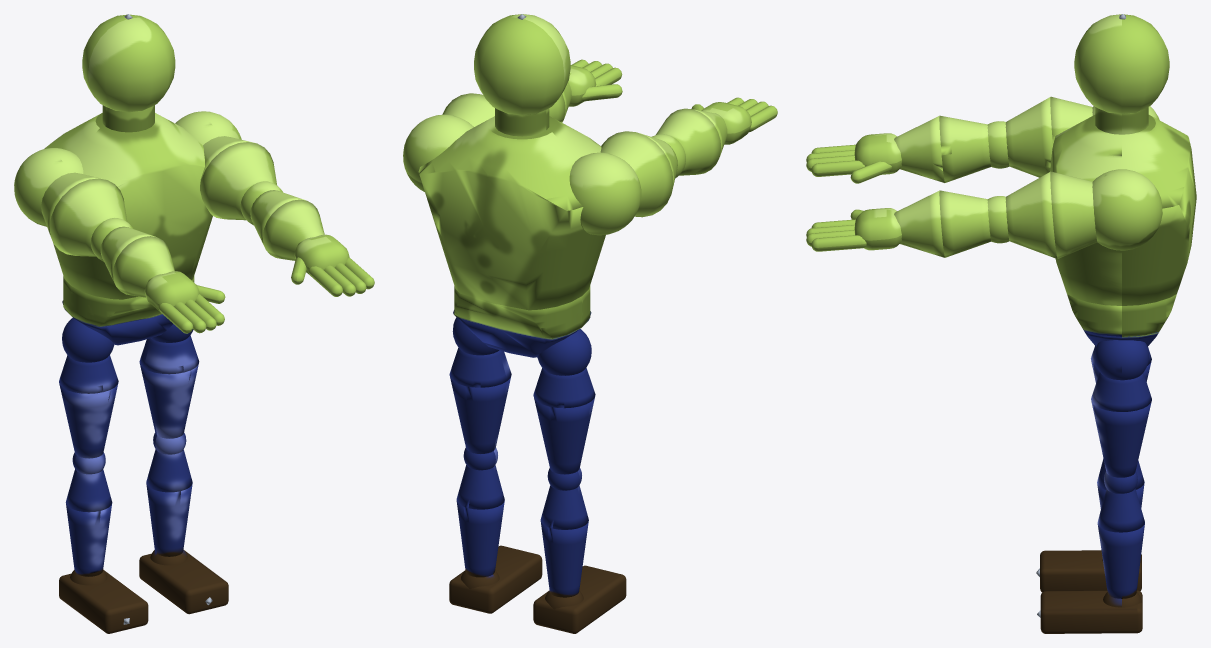
File: Zombie Jacked (Basic Animation OBJ).obj
The picture shows the model from 3 angles, left to right: view 1: azimuth 30°, elevation 25°; view 2: azimuth 150°, elevation 25°; view 3: azimuth 270°, elevation 25°; orthographic projection. The views are drawn at different scales.
Parts seen in each view (by area): view 1: Jacked_Zombie; view 2: Jacked_Zombie; view 3: Jacked_Zombie.
Boxes of the visible parts, box(x1,y1,x2,y2) form: Jacked_Zombie: box(14, 14, 374, 633); Jacked_Zombie: box(403, 14, 777, 633); Jacked_Zombie: box(806, 14, 1196, 633).
Size of the model in its own units: 39 by 95.81 by 57.42.
